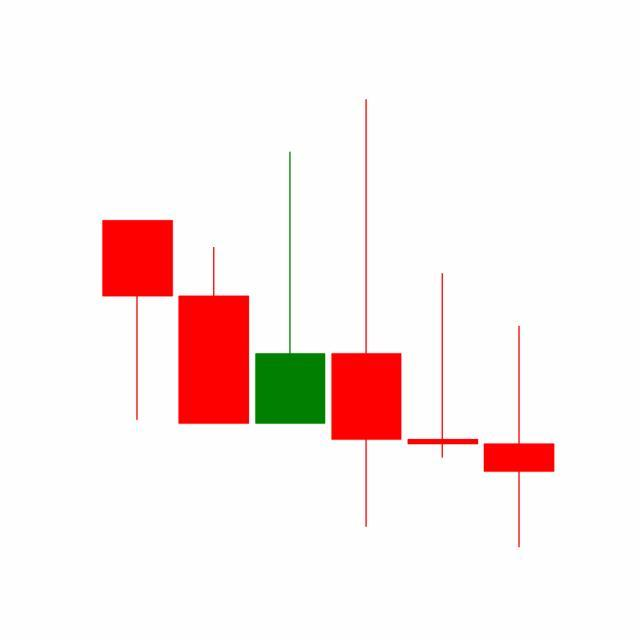Spinning Top: (404, 272, 482, 461)
